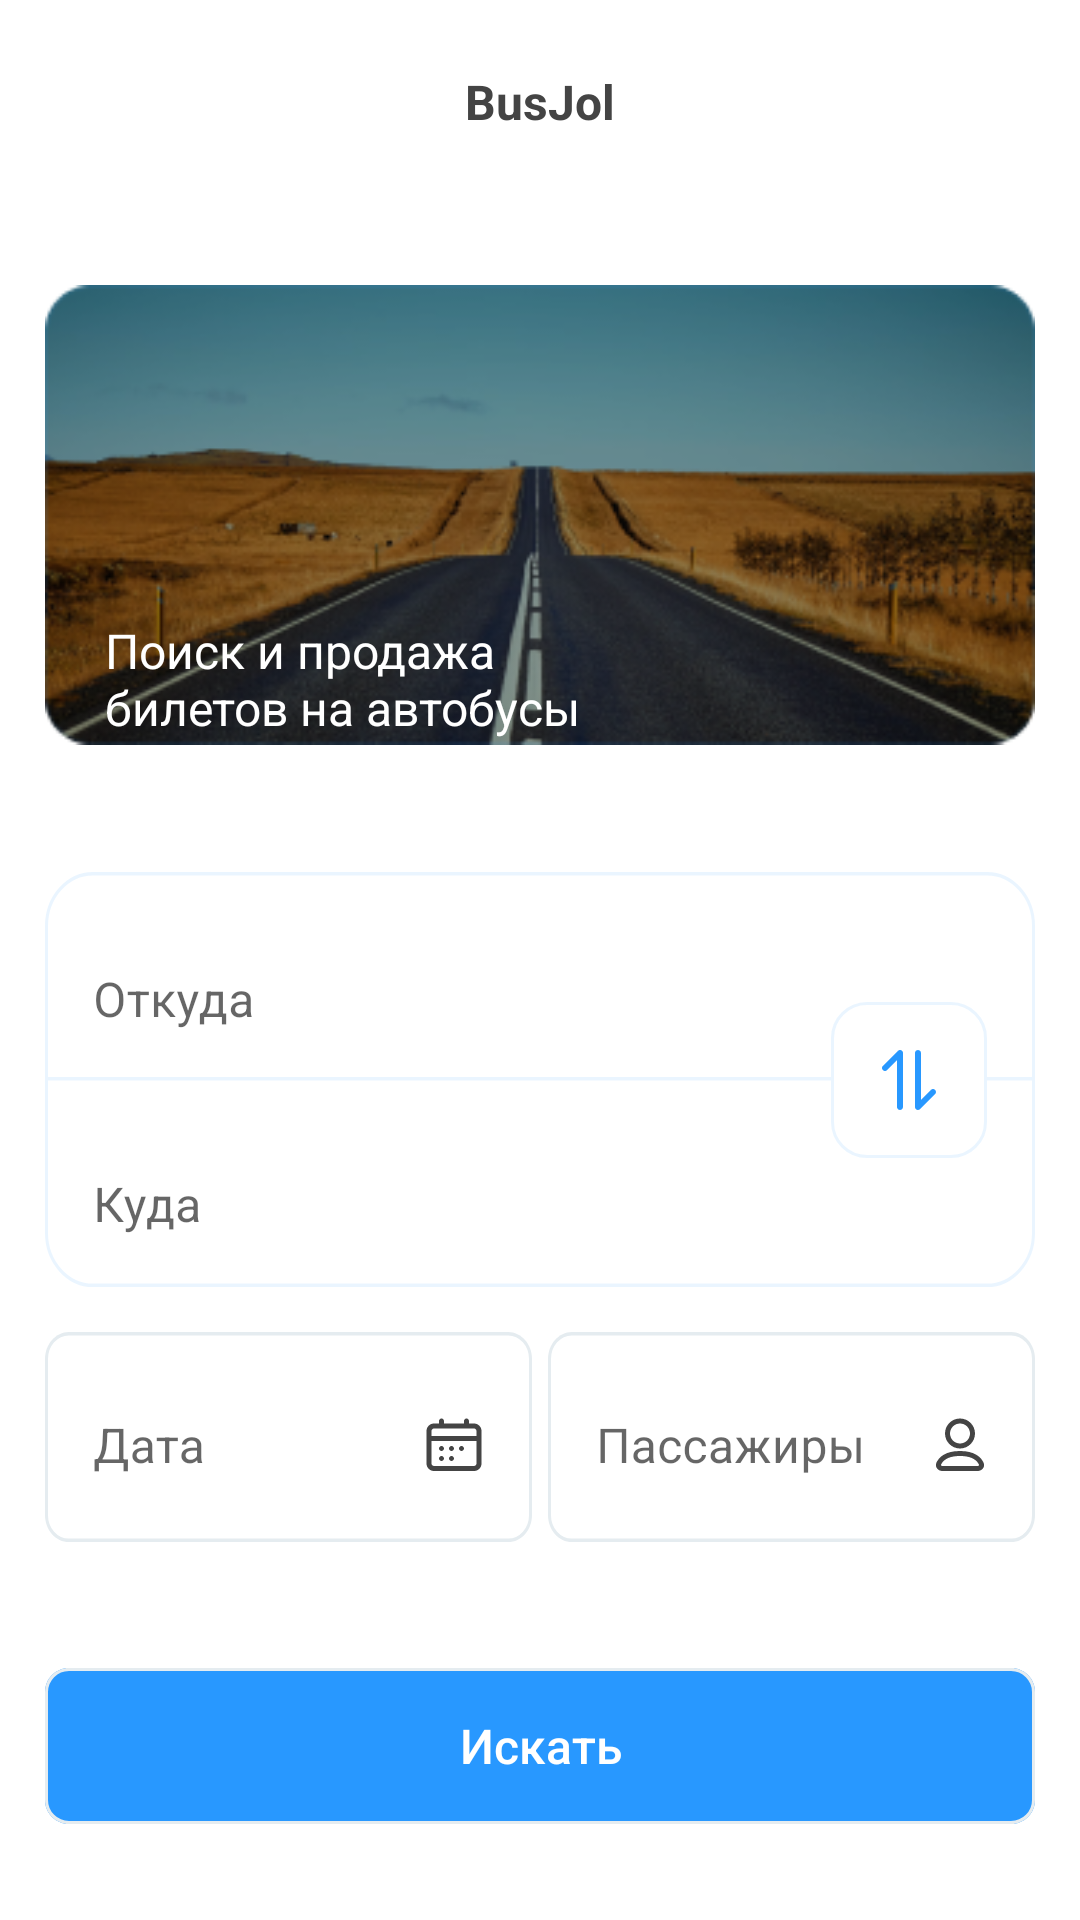

Screen size 1080×1920. Icon name, then its box in pixels as (x1, y1, x2, y2):
cities swap: (882, 1050, 936, 1110)
date: (426, 1418, 482, 1471)
user: (936, 1418, 984, 1471)
